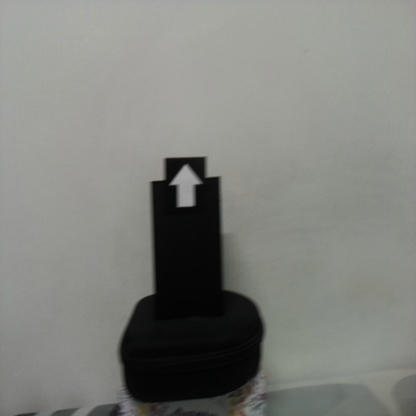id_1: (164, 160, 205, 220)
